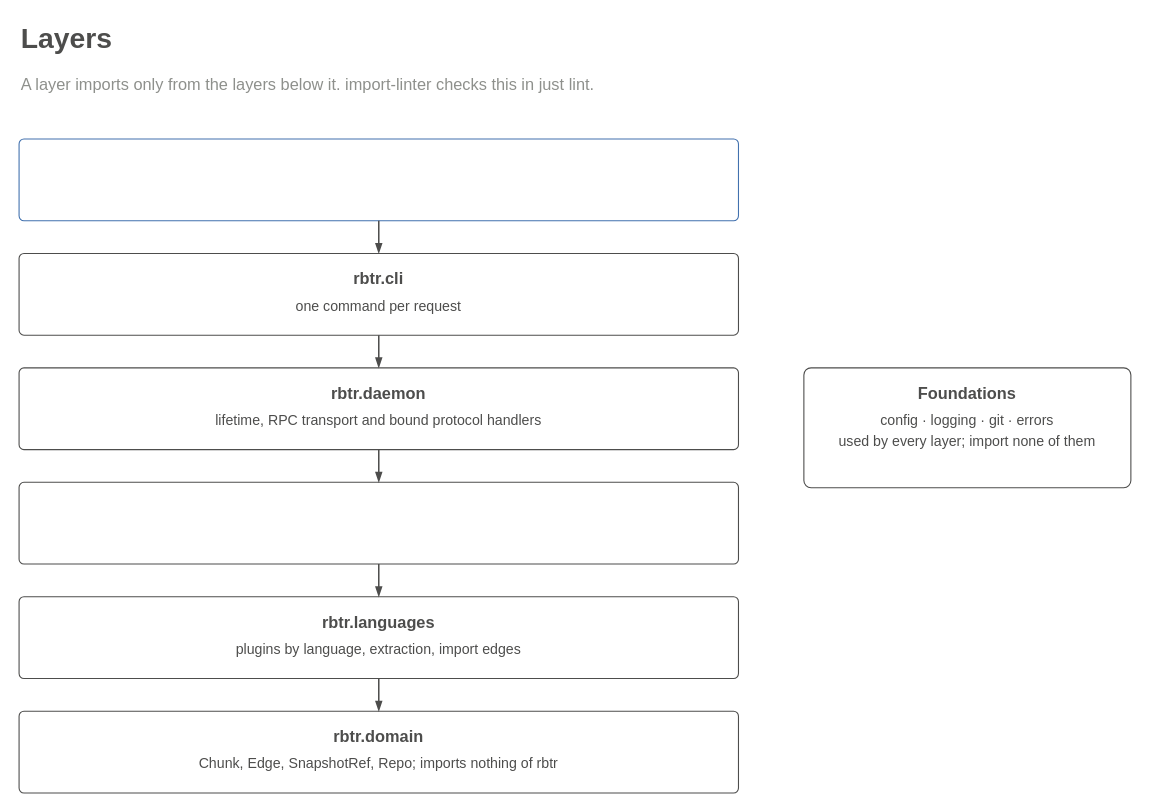
This 1150x812 diagram has some shape labels left out. The shapes that lost their labels are listed below. From the top down, each one's box as (x1, y1, x2, y2) in pixels, then its label:
(18, 138, 738, 221): rbtr-eval measures search; may import any of rbtr
(18, 481, 738, 564): rbtr.index Indexer policy; finite operations; Index, Store and sessions
